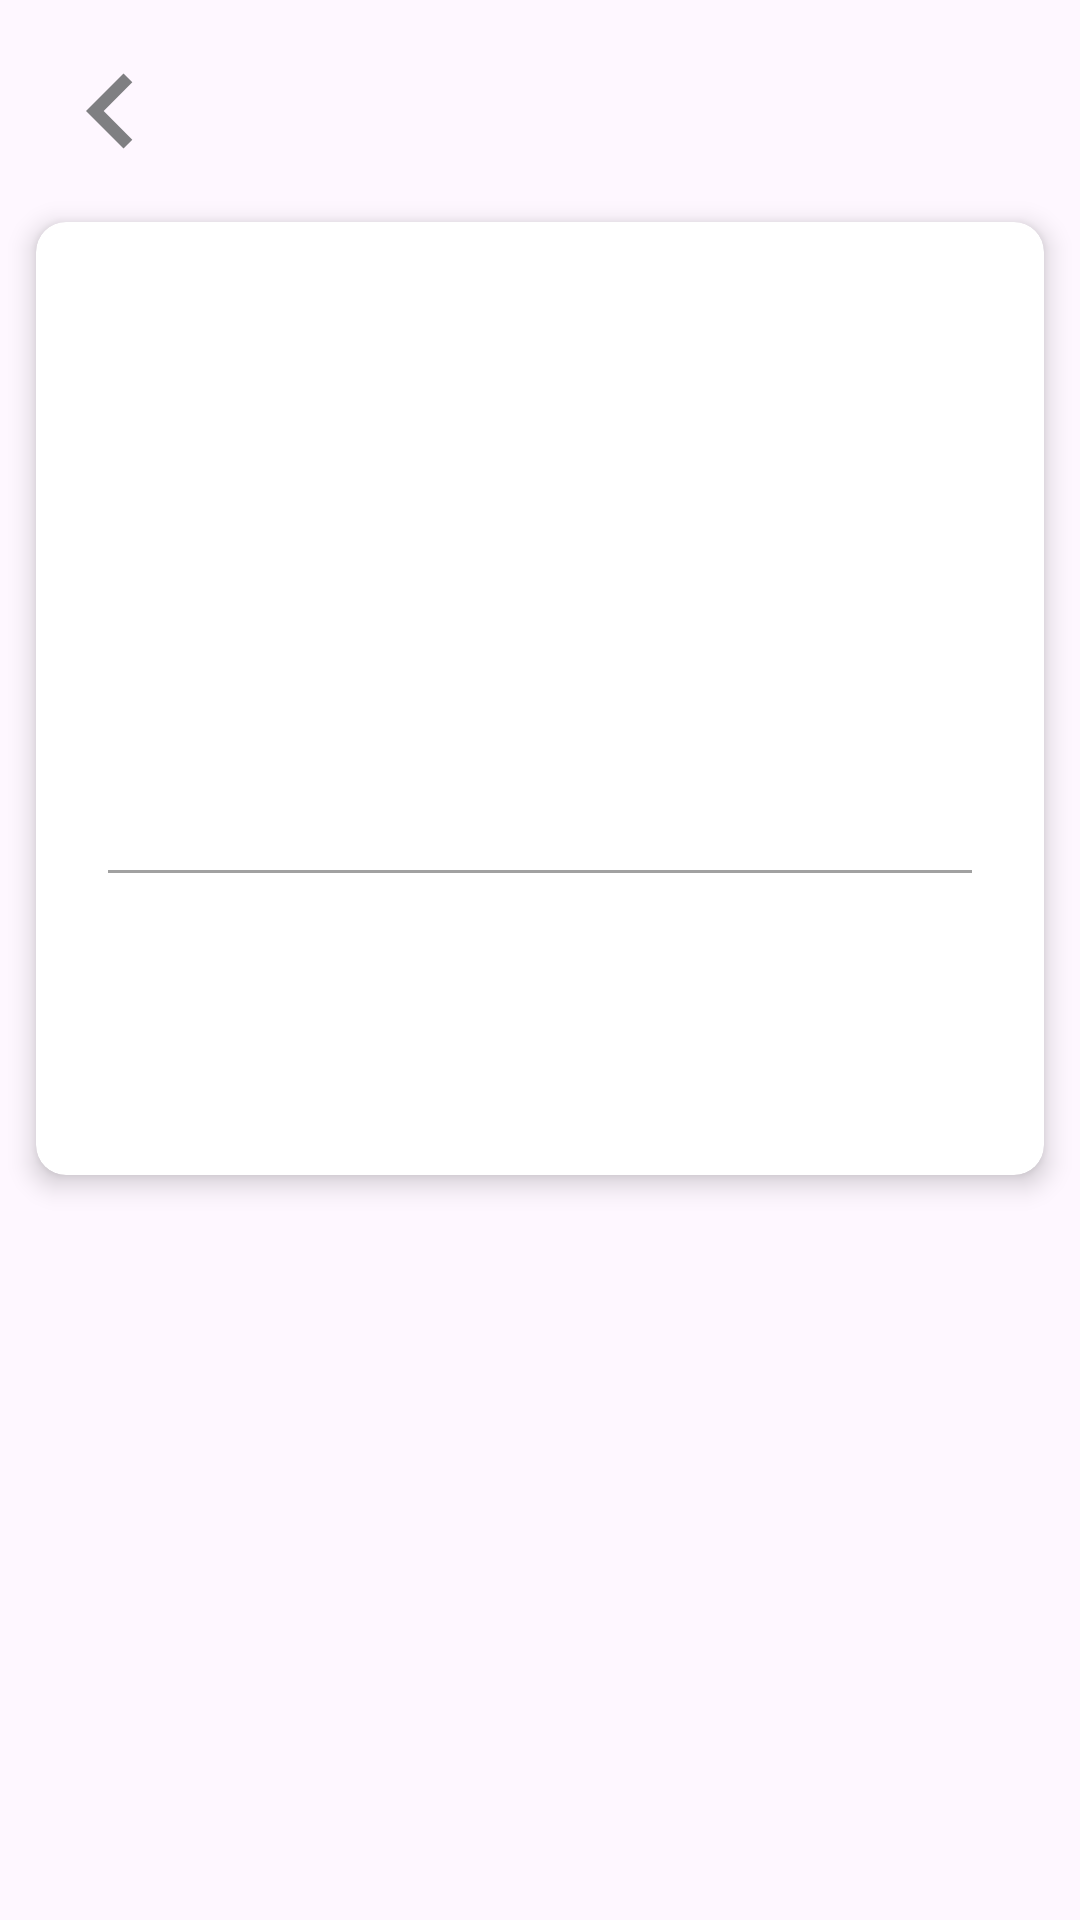

Where icons sit on this 1080×1920 app screen, as [x1,y1,x2,y2]:
arrow left: [86,73,132,149]
